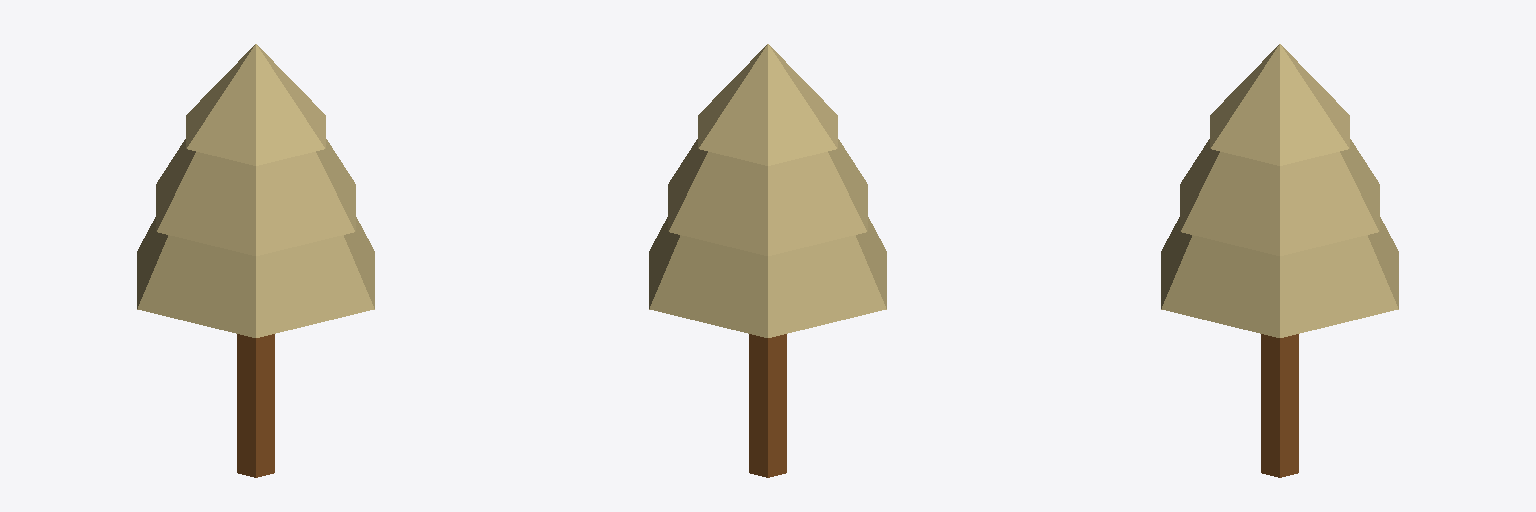
The model's file is tree2.obj.
3 renders of one model, left to right at view 1: azimuth 30°, elevation 25°; view 2: azimuth 150°, elevation 25°; view 3: azimuth 270°, elevation 25°, orthographic.
Bounding box in the file's own units: 73.44 × 125 × 63.6.